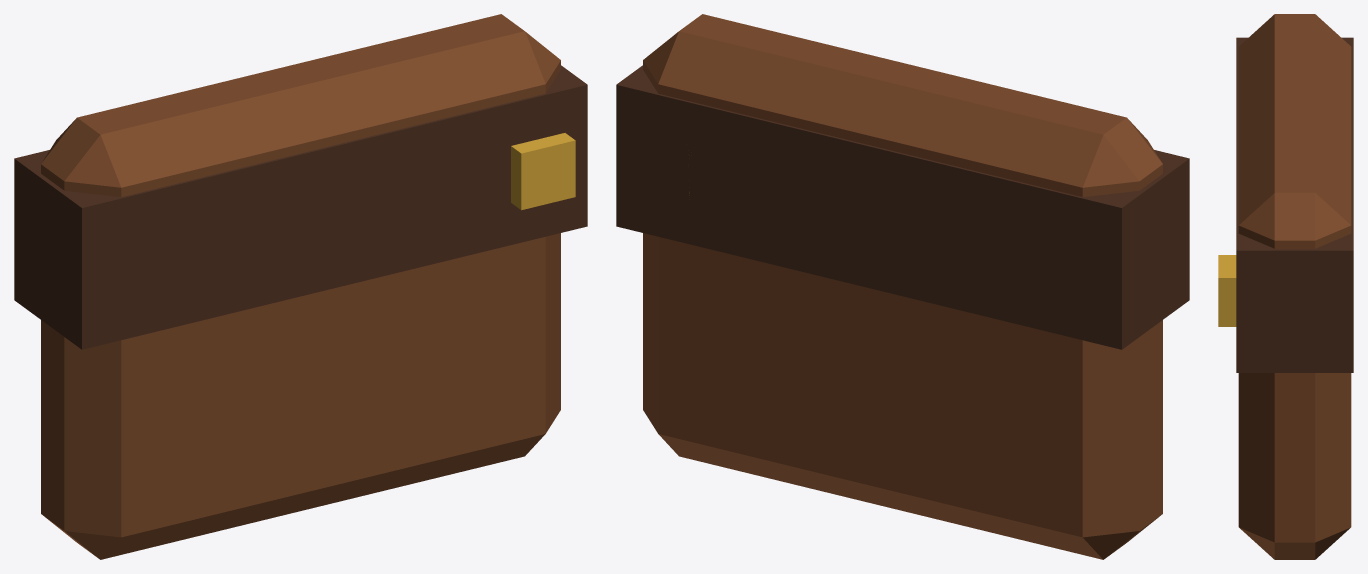
Rendered from PRP_Wallet.fbx.
The picture shows the model from 3 angles, left to right: view 1: azimuth 30°, elevation 25°; view 2: azimuth 150°, elevation 25°; view 3: azimuth 270°, elevation 25°; orthographic projection. The views are drawn at different scales.
Parts seen in each view (by area): view 1: PRP_Wallet; view 2: PRP_Wallet; view 3: PRP_Wallet.
Boxes of the visible parts, bbox=[...] form: PRP_Wallet: bbox=[14, 14, 587, 559]; PRP_Wallet: bbox=[616, 14, 1189, 559]; PRP_Wallet: bbox=[1218, 14, 1353, 559].
Size of the model in its own units: 0.112 by 0.09 by 0.03.
